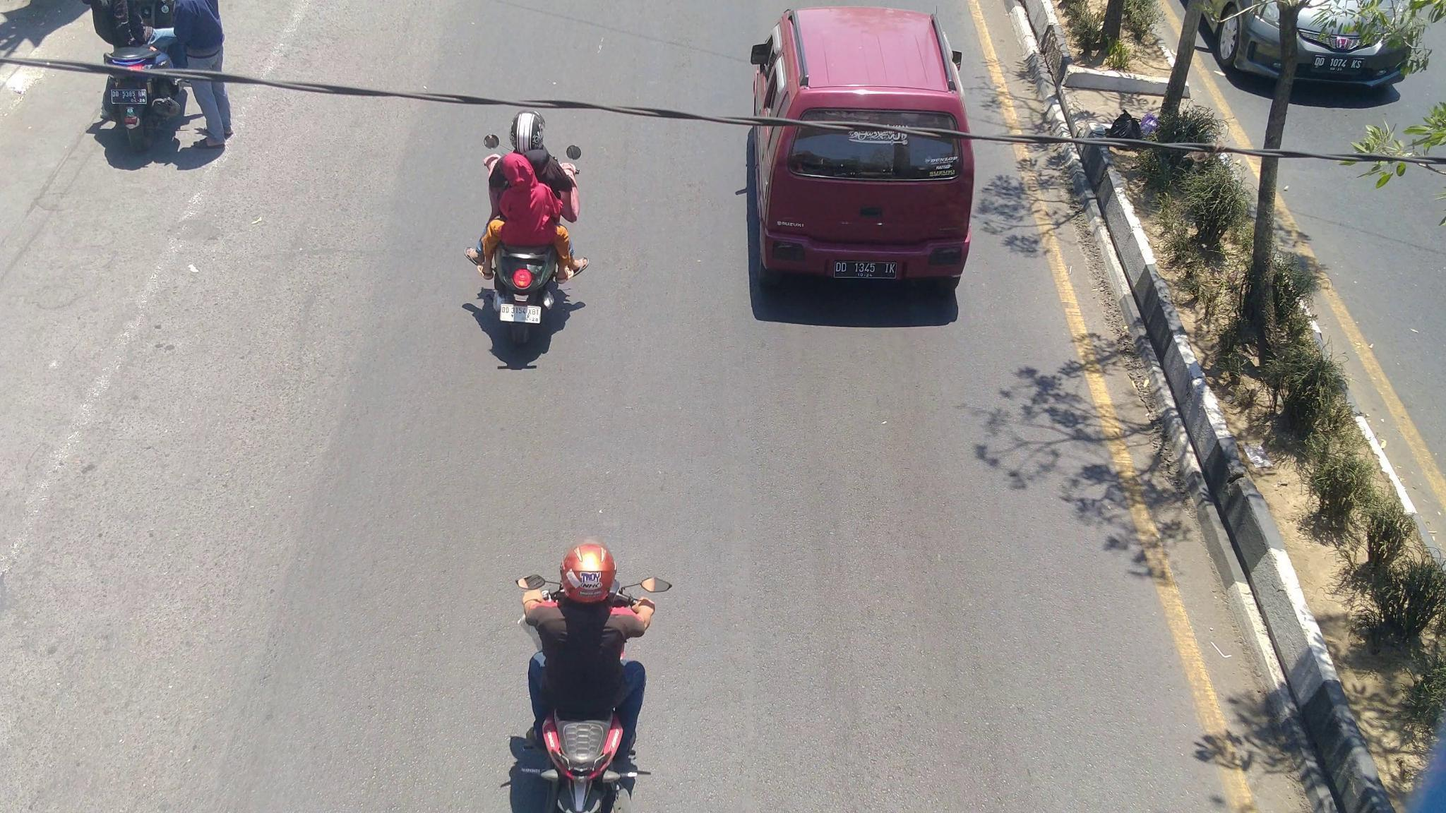Helmet: (554, 533, 624, 606), (505, 106, 551, 157)
bike: (508, 566, 675, 813), (471, 129, 588, 353)
no-helmet: (492, 150, 544, 196)
number-plate: (496, 303, 543, 324), (110, 86, 150, 106)
rider: (522, 534, 653, 757), (481, 154, 590, 281)
